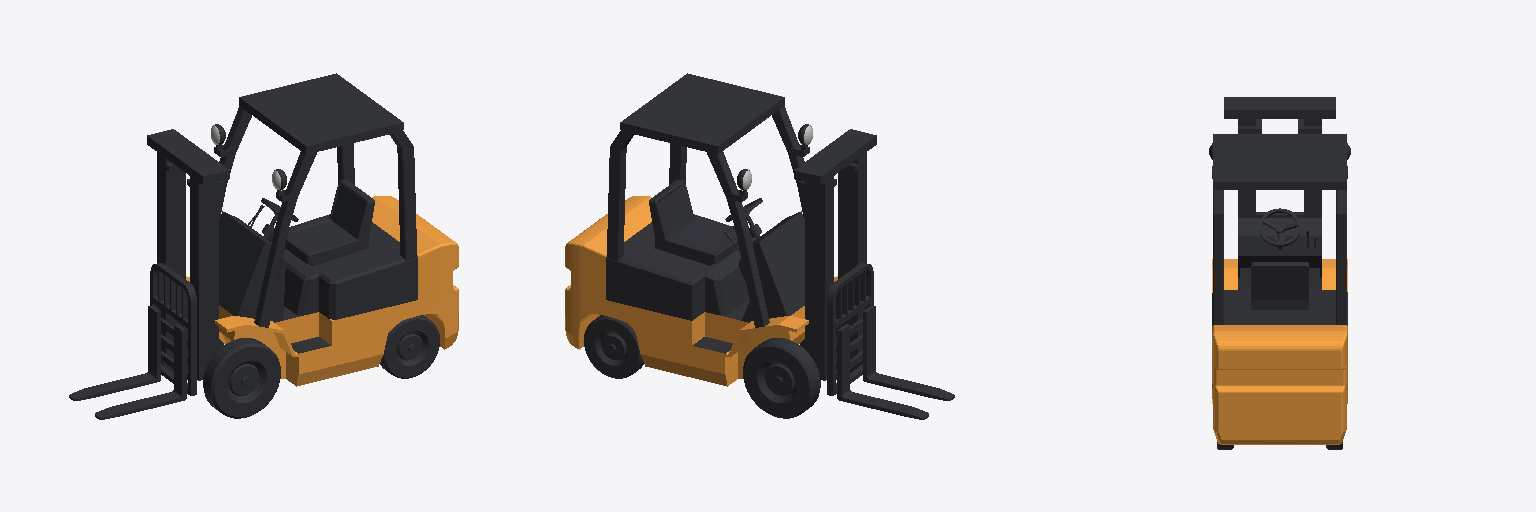
Rendered from Forklift.obj.
3 renders of one model, left to right at view 1: azimuth 30°, elevation 25°; view 2: azimuth 150°, elevation 25°; view 3: azimuth 270°, elevation 25°, orthographic.
Bounding box in the file's own units: 7.05 × 5.09 × 2.52.